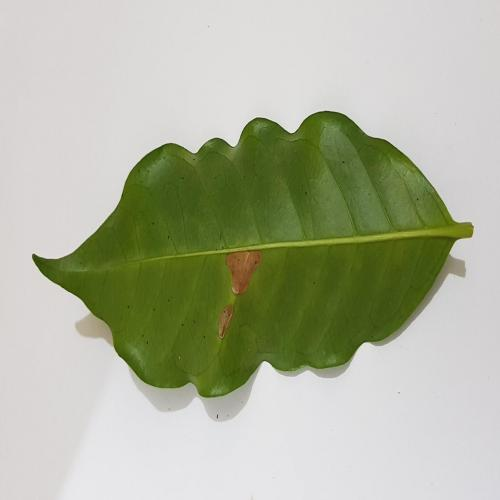leaf: (226, 250, 262, 295)
